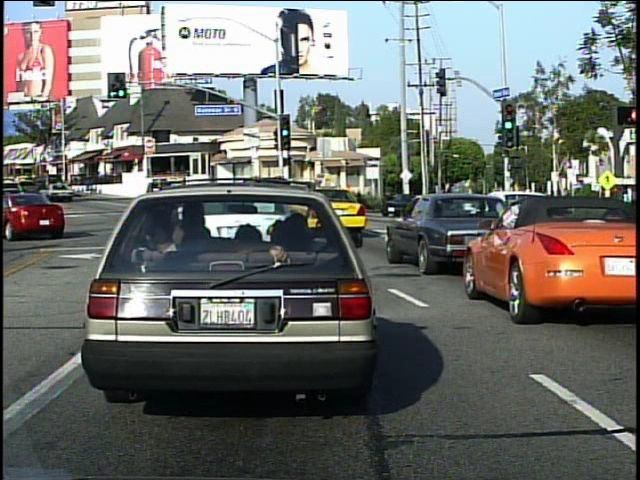person: (439, 184, 461, 227), (341, 182, 357, 217)
